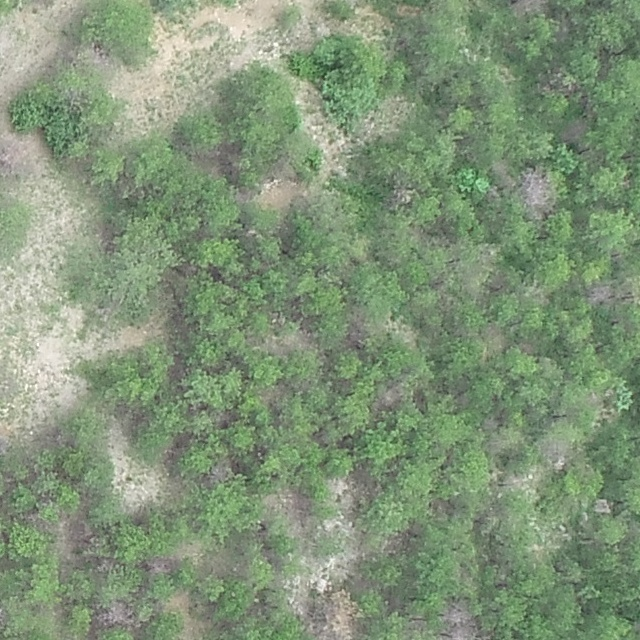unhealthy: (519, 166, 557, 216), (0, 131, 44, 171), (439, 600, 481, 640), (58, 511, 93, 549), (533, 66, 574, 98), (539, 434, 572, 469), (96, 600, 135, 628), (374, 380, 405, 411), (480, 321, 507, 354), (487, 157, 513, 187), (559, 117, 588, 142), (585, 280, 615, 304), (510, 0, 548, 18), (390, 184, 414, 206), (594, 497, 614, 515)
